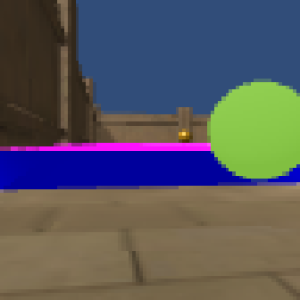goodGoal: (208, 80, 300, 178)
goodGoalMulti: (175, 128, 193, 143)
platform: (1, 151, 212, 185)
ramp: (5, 142, 211, 151)
